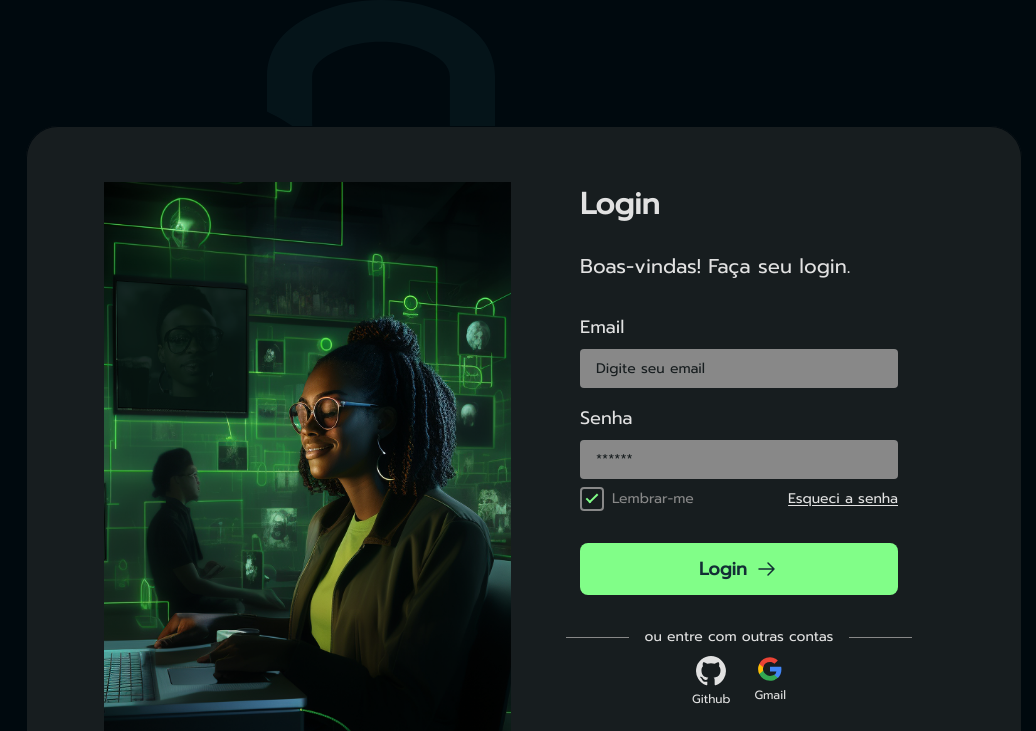
Test case: gives feedback when selecting Entrar com Google
Click the button with aria-label "Entrar com Google" at coordinates (770, 681), box x1=754 y1=655 x2=786 y2=707
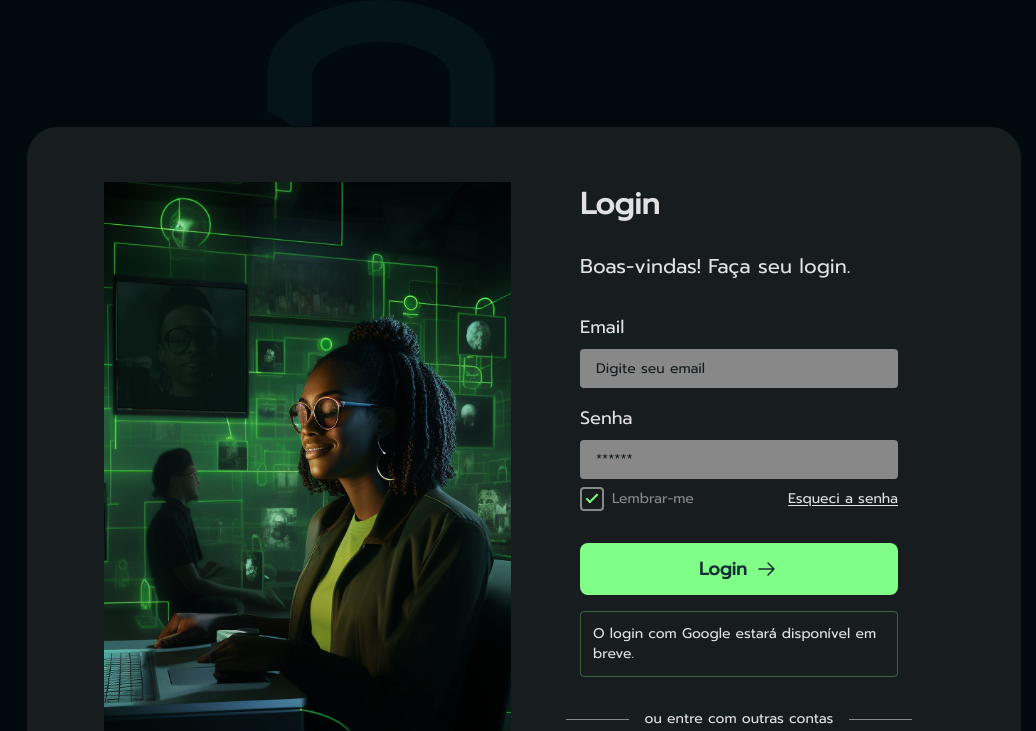
Now the message shows "O login com Google", box x1=593 y1=623 x2=876 y2=664
